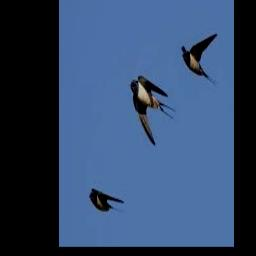Swallow: (130, 75, 177, 145), (182, 33, 218, 86), (90, 188, 125, 212)
